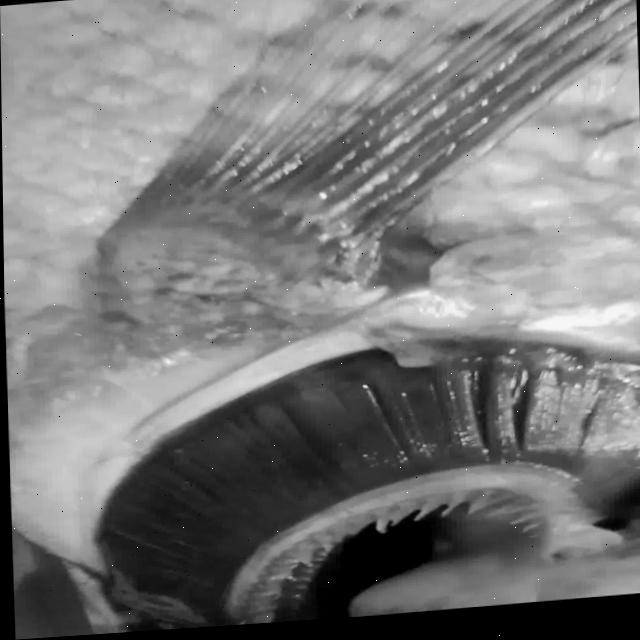Non-Fresh: (66, 311, 640, 619)
